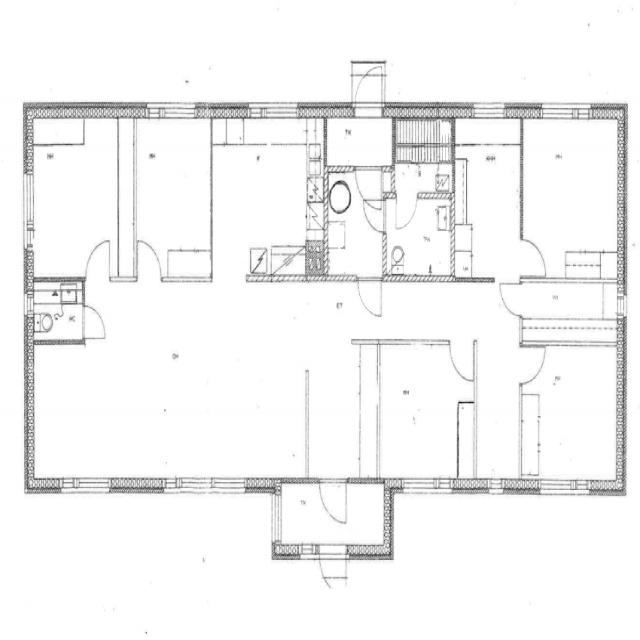door: (374, 338, 474, 484), (331, 150, 388, 270), (350, 62, 388, 122), (315, 540, 351, 598), (516, 336, 550, 388), (317, 474, 349, 529), (517, 229, 550, 282), (354, 269, 385, 321), (82, 233, 114, 283), (447, 336, 478, 387), (354, 165, 386, 212), (134, 232, 164, 282), (495, 274, 525, 321), (80, 300, 110, 345), (393, 190, 420, 231), (480, 467, 511, 500)
window: (168, 473, 250, 501), (57, 471, 115, 502), (395, 473, 457, 502), (18, 166, 37, 252), (534, 474, 592, 502), (247, 96, 301, 124), (537, 98, 594, 124), (144, 98, 199, 123), (469, 98, 510, 124), (21, 289, 35, 322)
zone: (173, 114, 324, 282), (520, 112, 626, 284), (25, 114, 132, 279), (518, 337, 624, 492), (374, 341, 470, 485), (131, 115, 213, 282), (451, 115, 521, 282), (322, 148, 387, 277), (384, 194, 454, 284), (29, 276, 84, 343), (395, 110, 453, 168), (316, 543, 350, 597)
